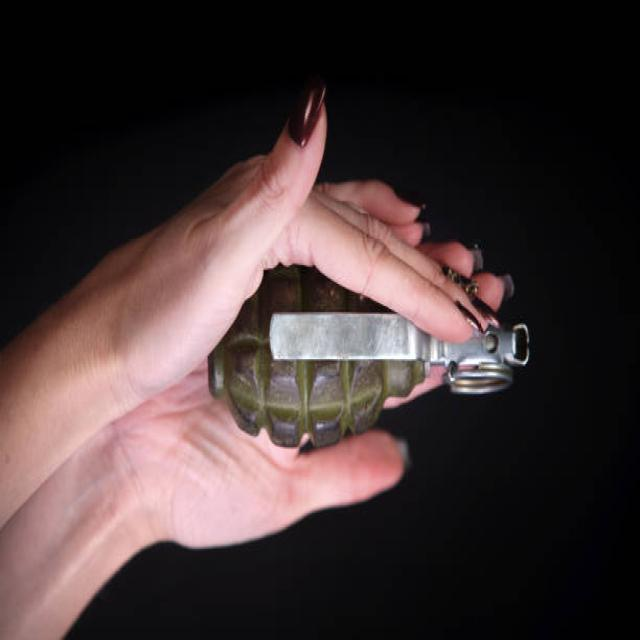grenade: (208, 265, 536, 456)
